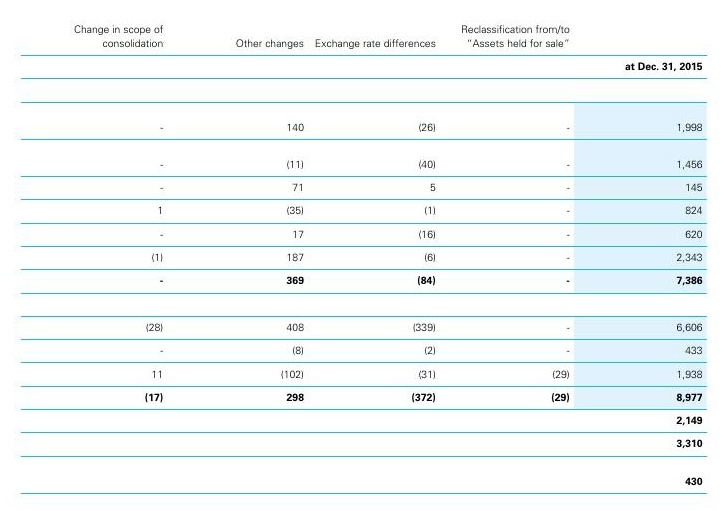table: (0, 0, 725, 511)
